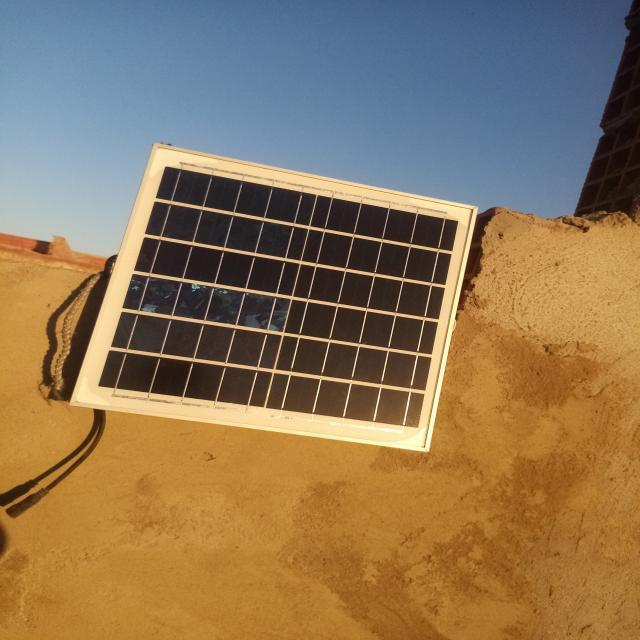Normal Solar Panel: (74, 145, 476, 451)
